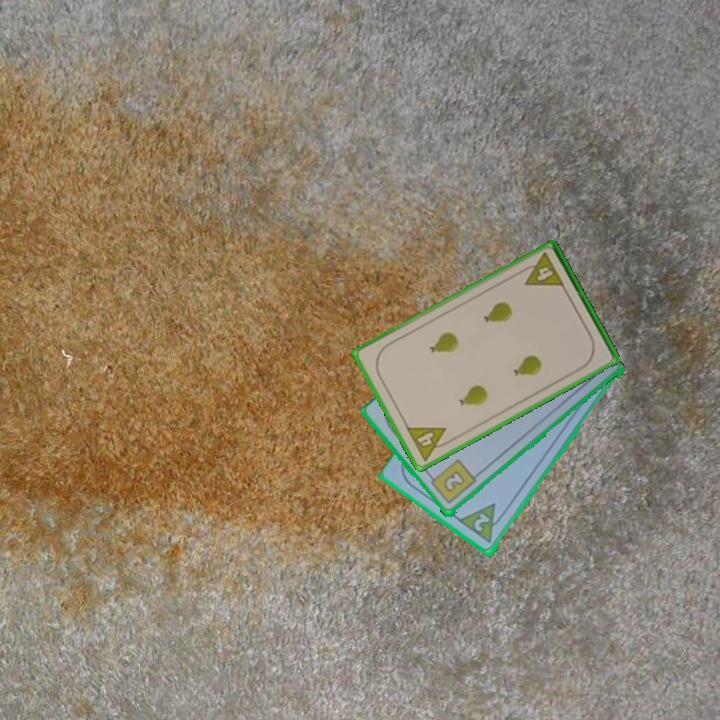2b: (425, 456, 479, 507)
2p: (470, 510, 493, 535)
4p: (402, 423, 455, 464), (516, 249, 567, 290)
